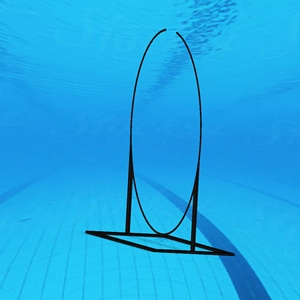circle: (83, 26, 240, 266)
